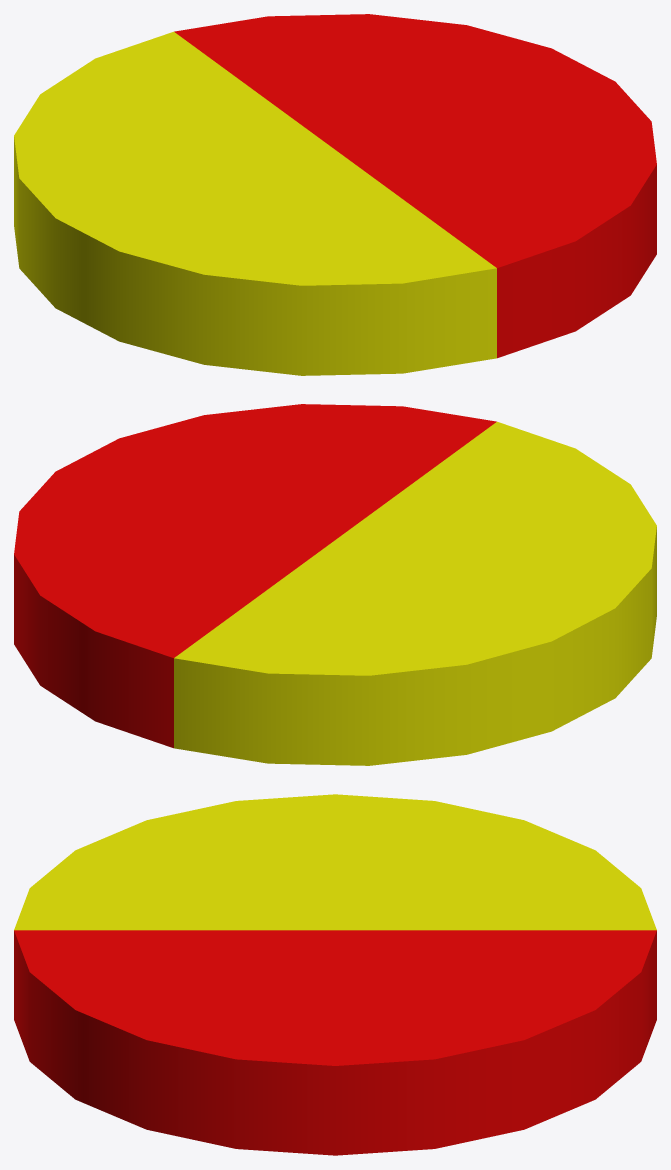
File: 2_renk_sari_kirmizi.fbx
3 views of the same model, one above another, from view 1: azimuth 30°, elevation 25°; view 2: azimuth 150°, elevation 25°; view 3: azimuth 270°, elevation 25° (orthographic).
Parts seen in each view (by area): view 1: pCylinder9; view 2: pCylinder9; view 3: pCylinder9.
Boxes of the visible parts, <box> form: pCylinder9: <box>14,14,656,375</box>; pCylinder9: <box>14,404,656,765</box>; pCylinder9: <box>14,794,656,1155</box>.
Size of the model in its own units: 6.28 by 0.9651 by 6.28.
